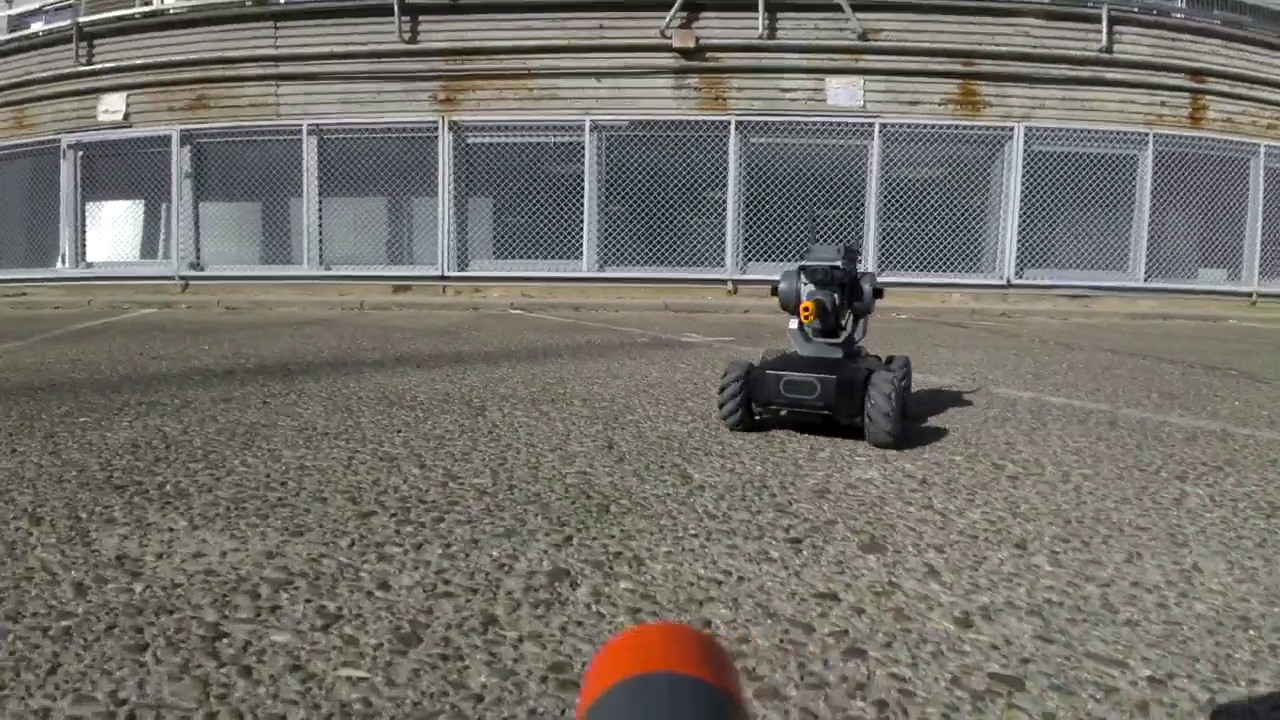robot: (720, 198, 909, 450)
